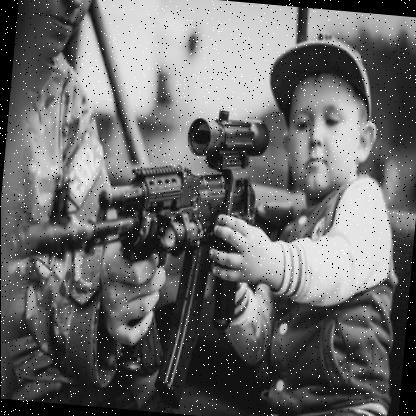rifle: (0, 97, 293, 404)
